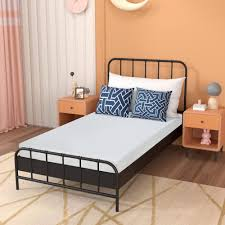bed-matress: (14, 105, 186, 190)
